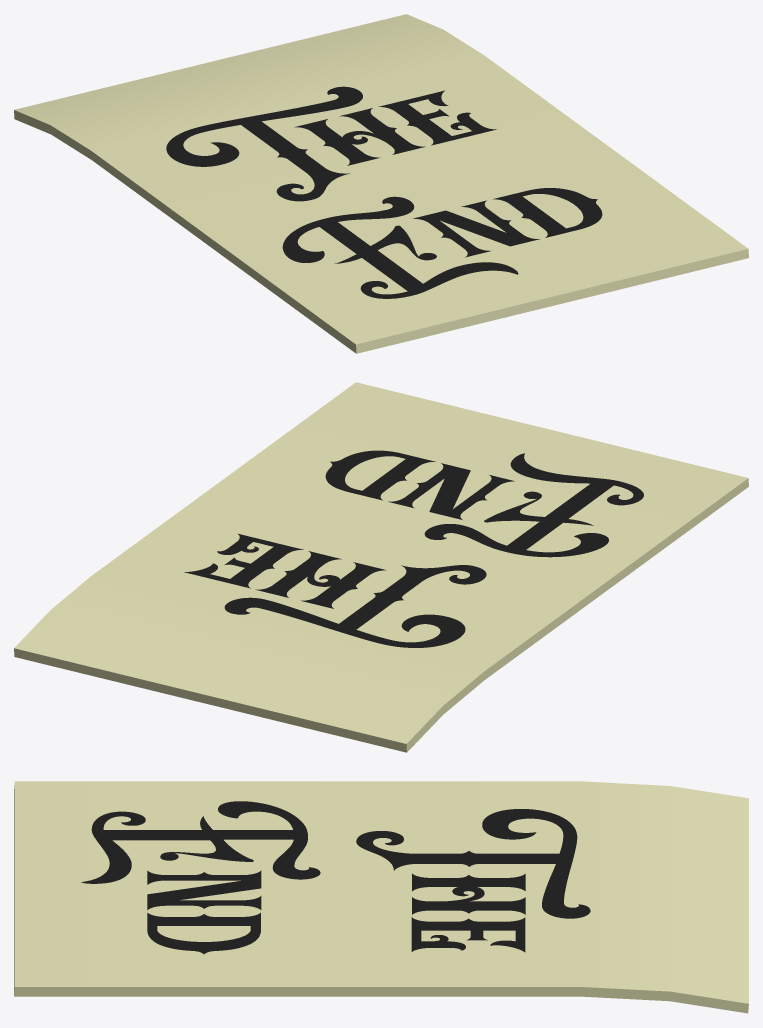
File: Note.fbx
3 views of the same model, one above another, from view 1: azimuth 30°, elevation 25°; view 2: azimuth 150°, elevation 25°; view 3: azimuth 270°, elevation 25° (orthographic). The views are drawn at different scales.
Parts seen in each view (by area): view 1: Plane, Text; view 2: Plane, Text; view 3: Plane, Text.
Part boxes in pixels (left/top/right/bottom): Plane: left=14, top=14, right=748, bottom=353; Text: left=166, top=86, right=602, bottom=298; Plane: left=14, top=382, right=748, bottom=752; Text: left=184, top=450, right=643, bottom=647; Plane: left=14, top=781, right=748, bottom=1013; Text: left=81, top=801, right=590, bottom=954.
Bounding box in the file's own units: 24.92 × 1.51 × 37.65.
